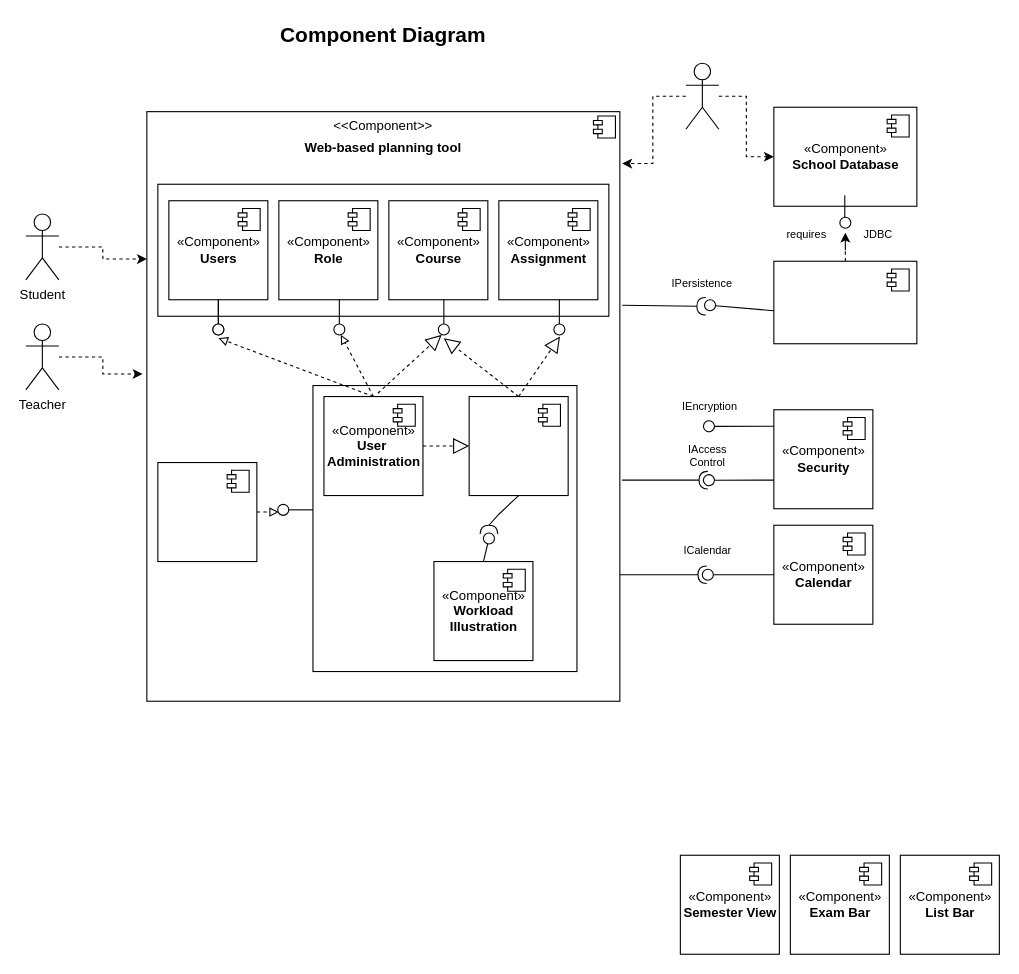
This 1019x974 diagram has some shape labels left out. The centre of each missing label's shape, as x and y in pixels:
"Admin" goes at point 702,95.
"«Component» APP Controler" goes at point 207,511.
"«Component» Assignment Management" goes at point 518,445.
"«Component» Infrastructure" goes at point 845,302.
